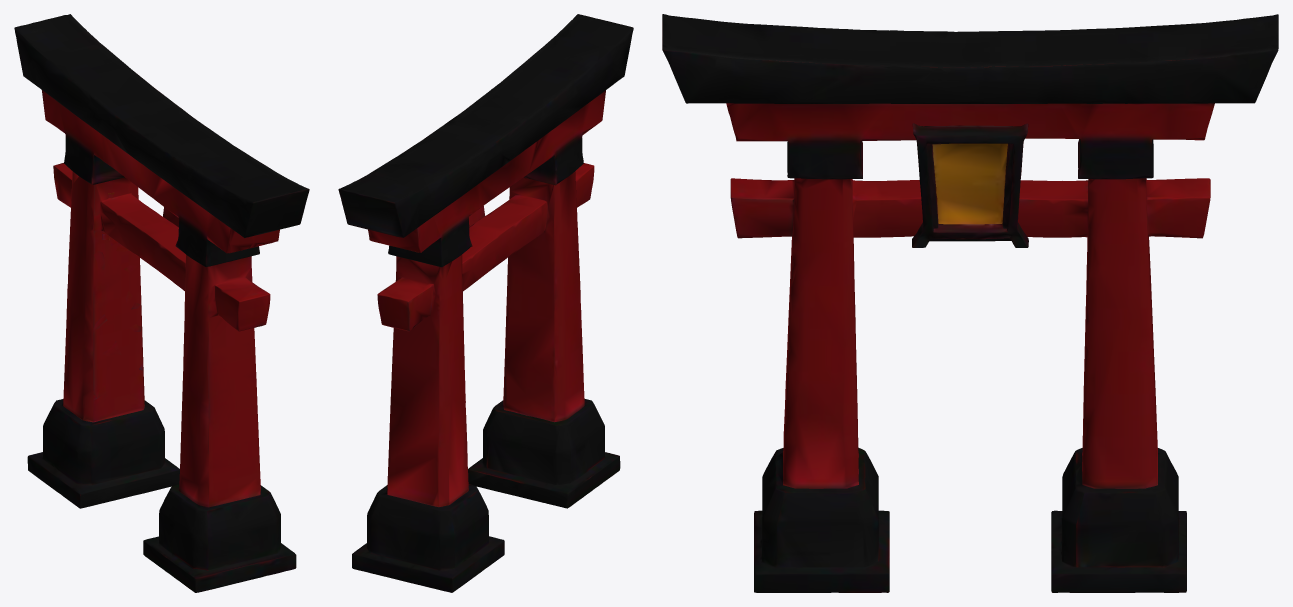
The model's file is prop_kagura_gate.glb.
3 views of the same model, side by side, from view 1: azimuth 30°, elevation 25°; view 2: azimuth 150°, elevation 25°; view 3: azimuth 270°, elevation 25° (orthographic). The views are drawn at different scales.
Parts seen in each view (by area): view 1: geometry_0; view 2: geometry_0; view 3: geometry_0.
Part boxes in pixels (<box>): geometry_0: <box>14,14,309,592</box>; geometry_0: <box>338,14,633,592</box>; geometry_0: <box>662,14,1278,592</box>.
Bounding box in the file's own units: 0.2445 × 0.9509 × 1.
1 material, 1 textured.
